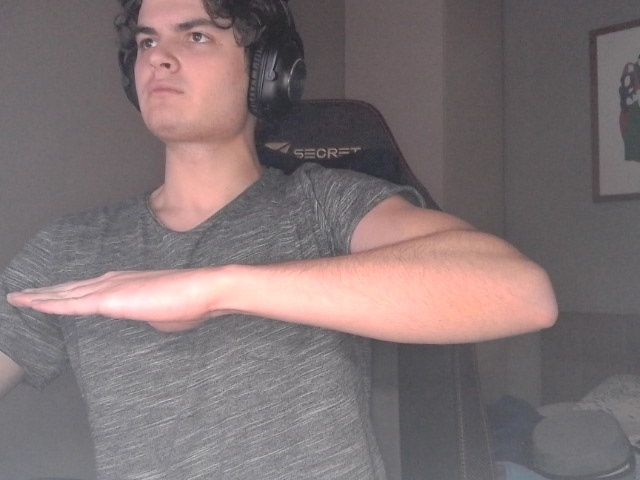space: (4, 226, 565, 358)
